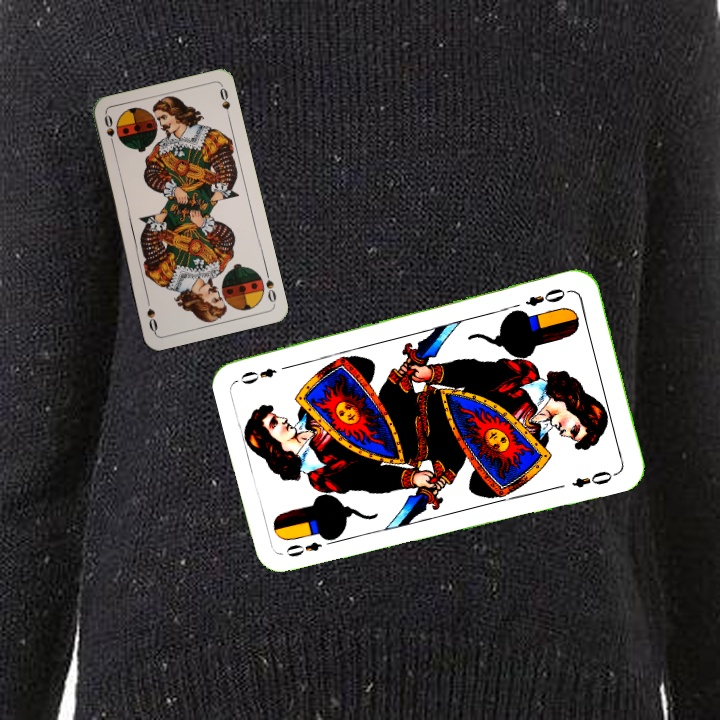EO: (281, 532, 338, 560), (521, 284, 574, 309)
SO: (100, 111, 118, 151), (261, 266, 279, 306)
